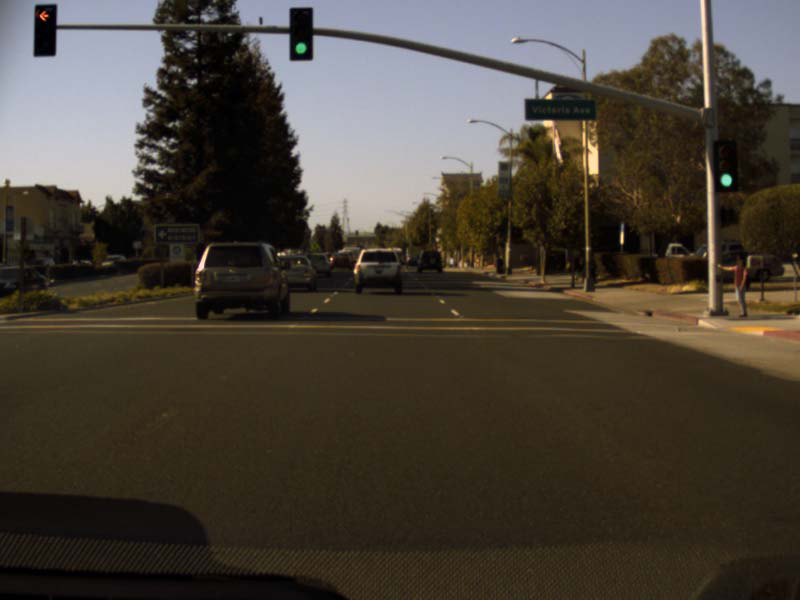Green: (712, 139, 739, 193), (289, 7, 313, 61)
Red: (33, 3, 57, 57)
